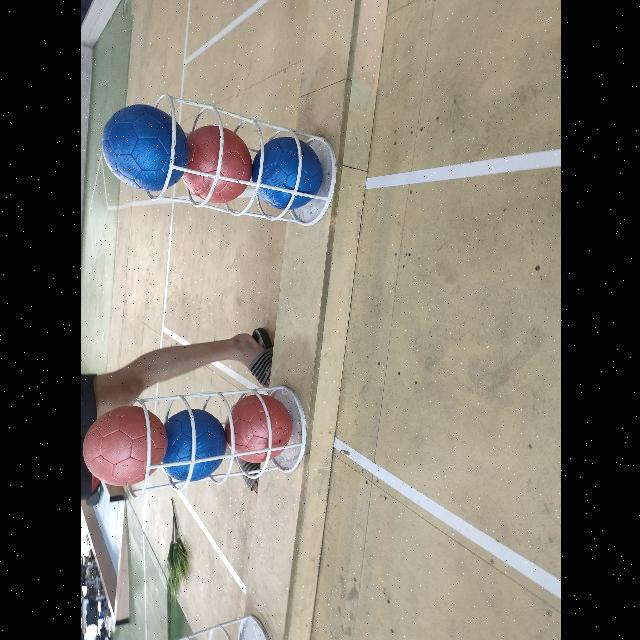B: (100, 104, 186, 190), (250, 136, 322, 208), (160, 410, 226, 480)
R: (82, 404, 164, 486), (180, 125, 252, 202), (222, 393, 292, 462)
